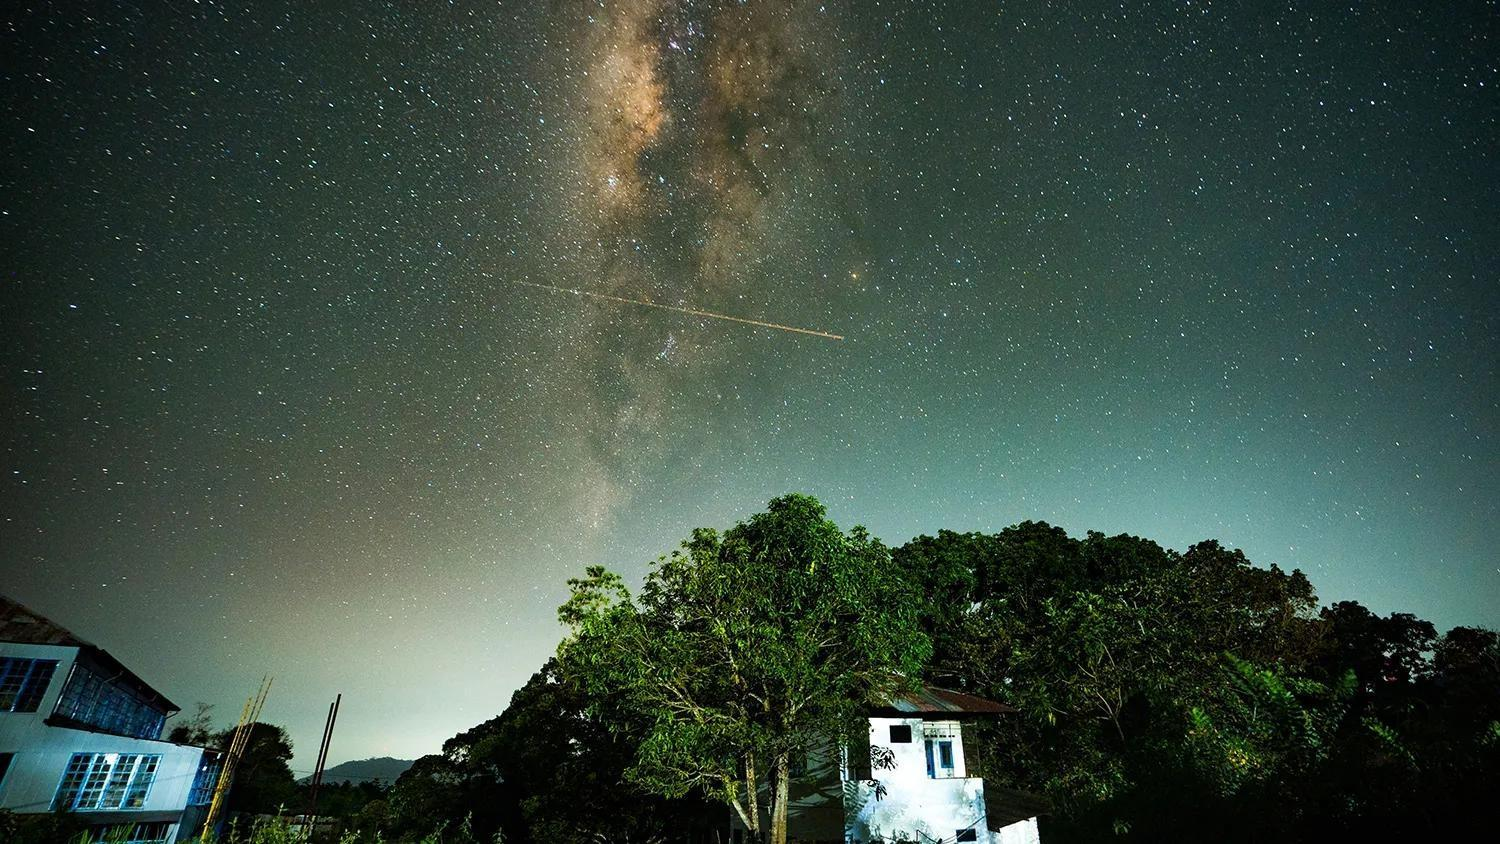meteorite: (669, 307, 859, 345)
